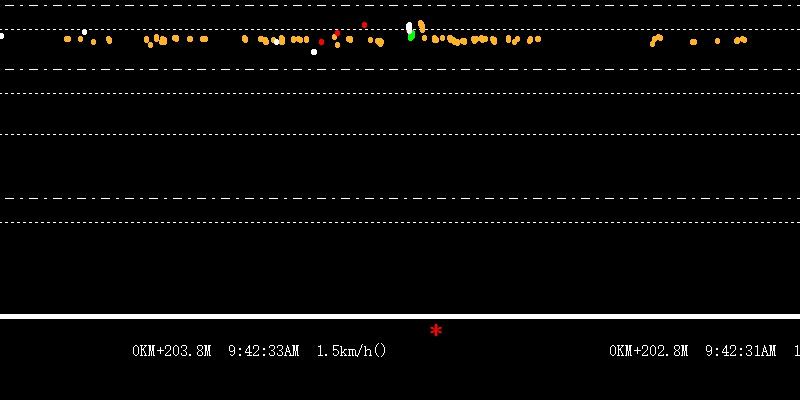face_1: (416, 18, 425, 37)
face_s: (404, 20, 415, 44)
star: (428, 319, 443, 337)
